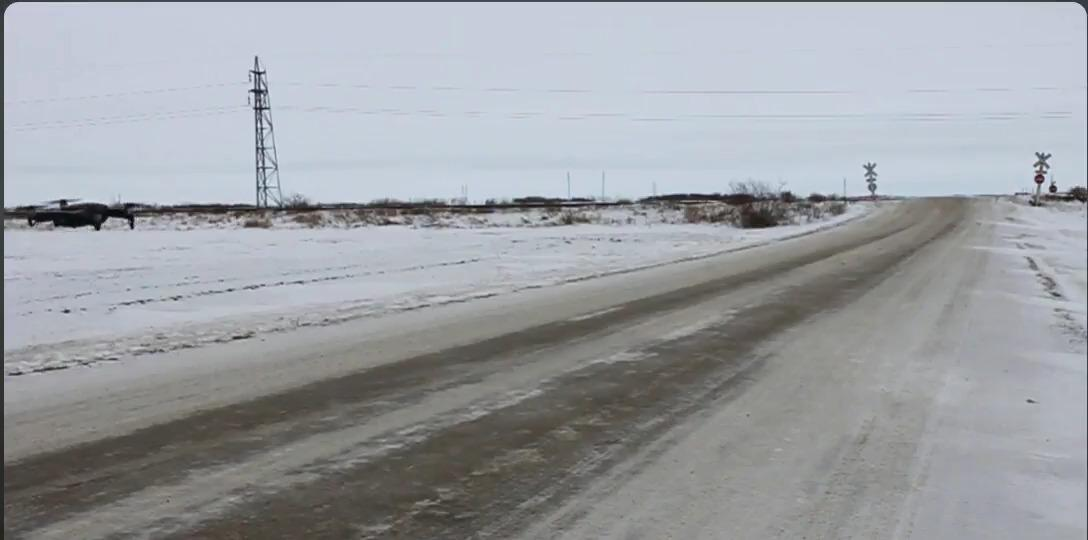dr: (14, 189, 142, 237)
